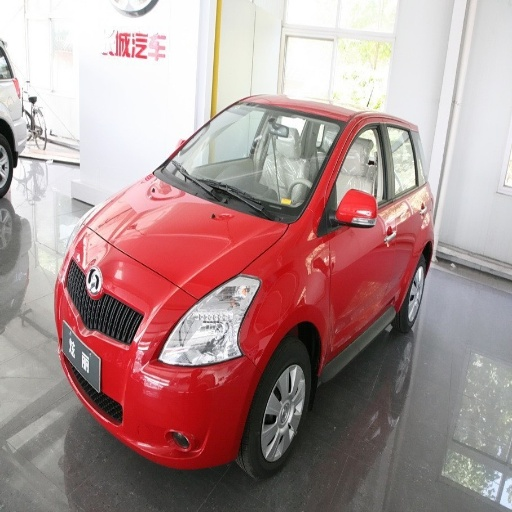front_bumper: (59, 244, 263, 460)
front_glass: (157, 105, 345, 223)
front_left_door: (327, 118, 392, 359)
